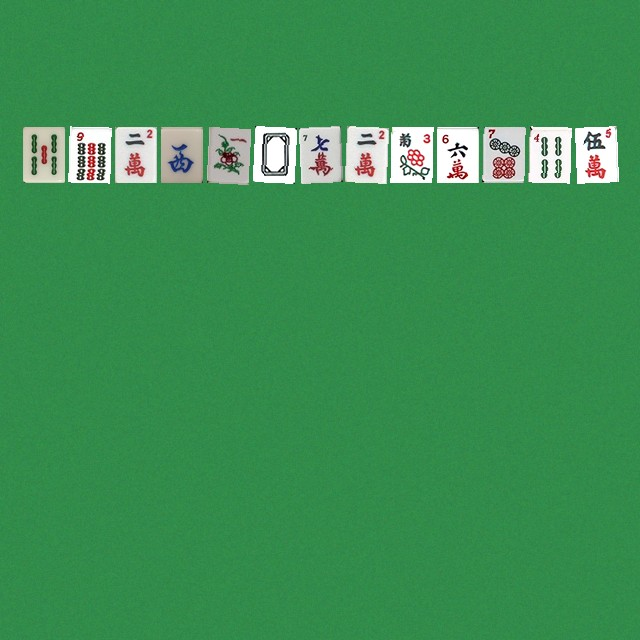tile: (22, 126, 64, 182), (68, 126, 110, 182), (114, 126, 156, 182), (160, 126, 202, 182), (206, 126, 248, 182), (252, 126, 294, 182), (298, 126, 340, 182), (344, 126, 386, 182), (390, 126, 432, 182), (436, 126, 478, 182), (482, 126, 524, 182), (528, 126, 570, 182), (574, 126, 616, 182)
